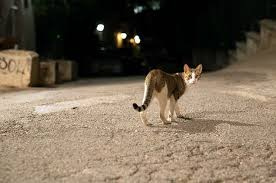cat: (131, 64, 203, 127)
